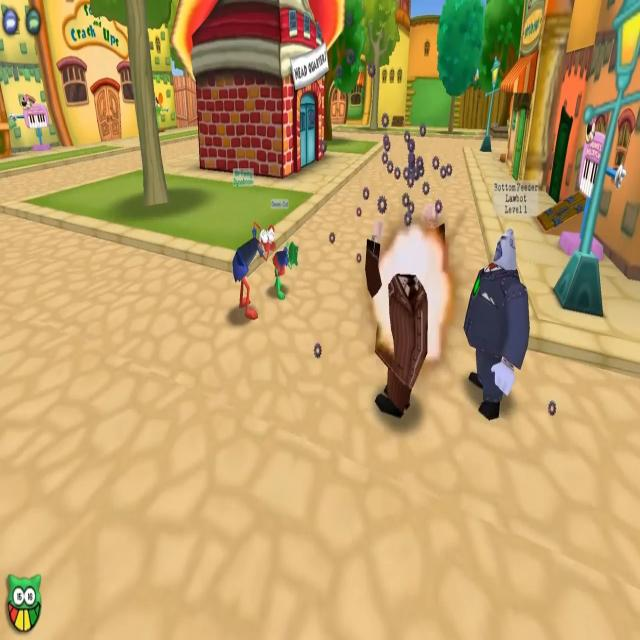bottomfeeder: (457, 172, 548, 426)
